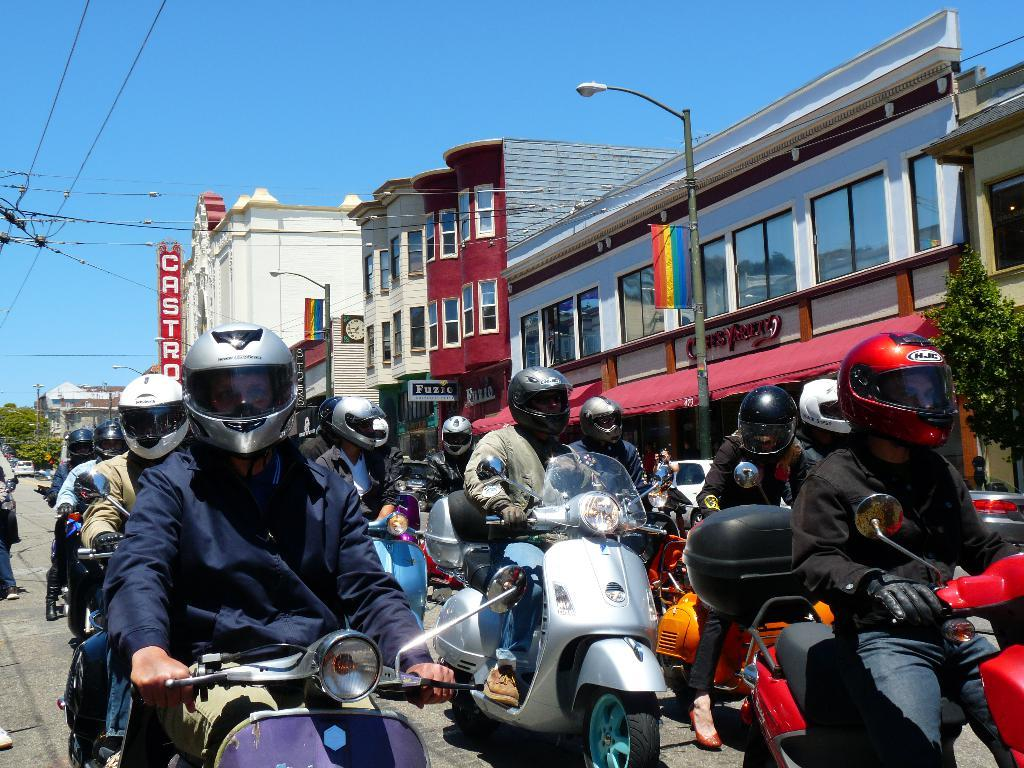helmet: (182, 322, 298, 457), (837, 331, 954, 448), (118, 374, 189, 461), (738, 385, 798, 461), (508, 366, 573, 434), (799, 378, 855, 435), (331, 397, 386, 451), (579, 396, 623, 444), (319, 396, 353, 437), (94, 420, 128, 460), (442, 416, 472, 456), (67, 429, 95, 463), (364, 418, 389, 448)
